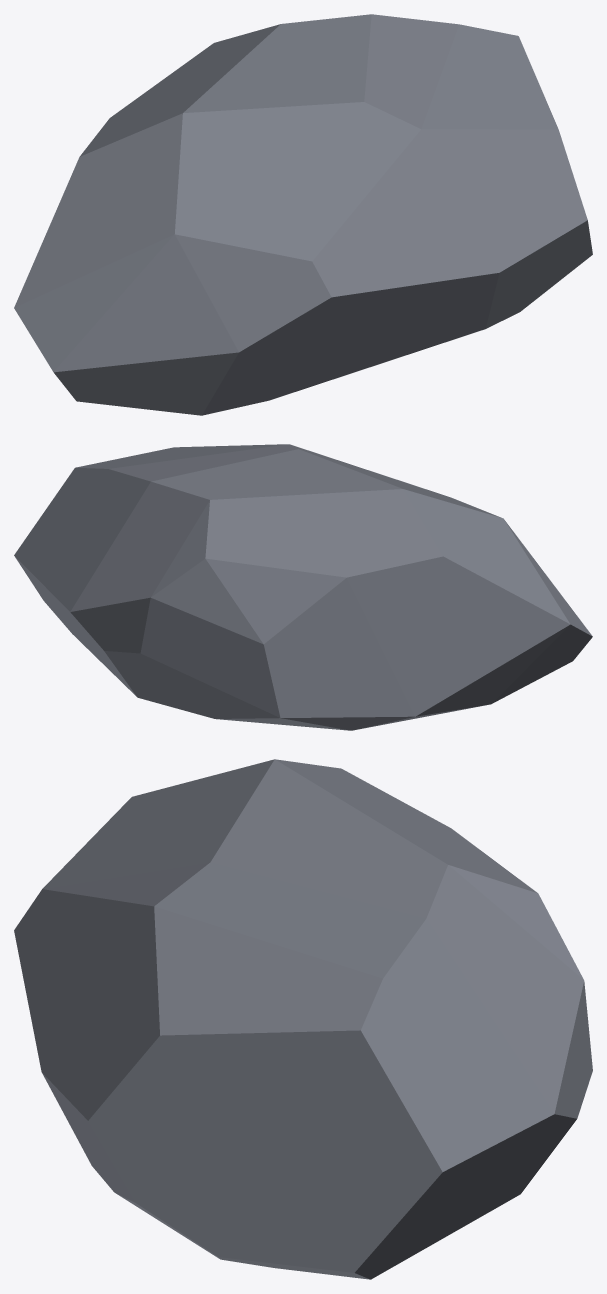
The model's file is Rock_Round_m_03.fbx.
3 views of the same model, one above another, from view 1: azimuth 30°, elevation 25°; view 2: azimuth 150°, elevation 25°; view 3: azimuth 270°, elevation 25° (orthographic). The views are drawn at different scales.
Parts seen in each view (by area): view 1: Rock_Round_m_03; view 2: Rock_Round_m_03; view 3: Rock_Round_m_03.
Boxes of the visible parts, x1=… form: Rock_Round_m_03: x1=14, y1=14, x2=592, y2=415; Rock_Round_m_03: x1=14, y1=444, x2=592, y2=730; Rock_Round_m_03: x1=14, y1=759, x2=592, y2=1279.
Size of the model in its own units: 143 by 54.74 by 96.51.
